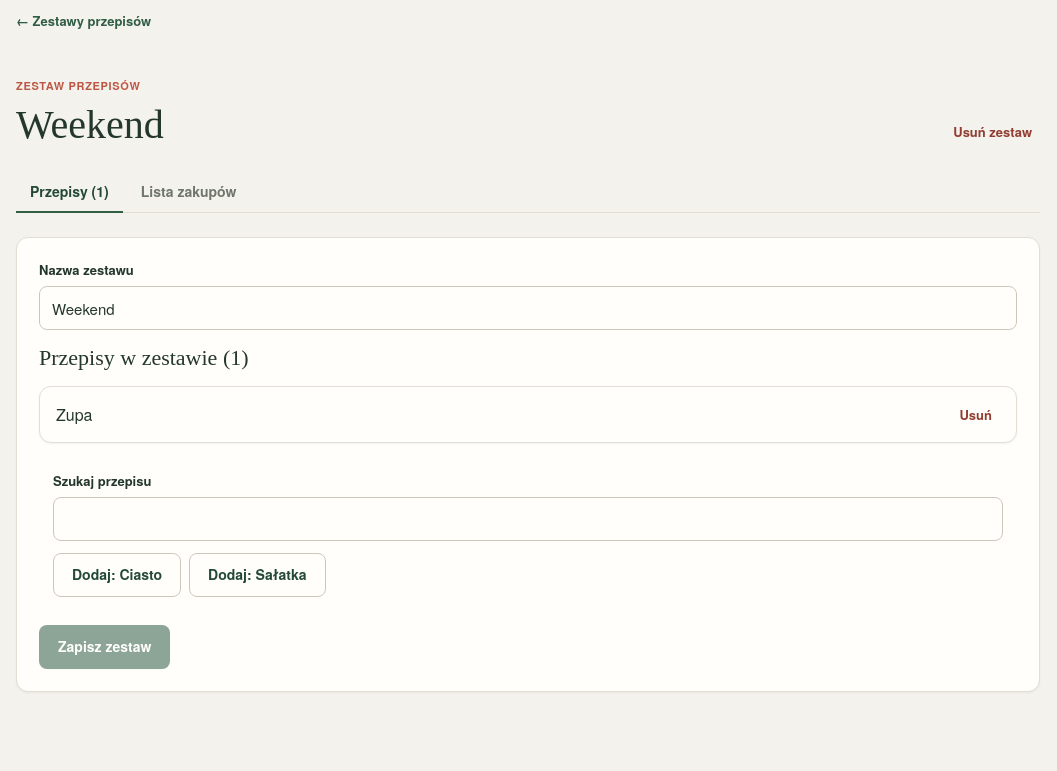
Test: recipe set view › keeps the draft and tells the user when saving fails
Click the button "Dodaj: Ciasto" at (117, 575), box [53,553,181,597]
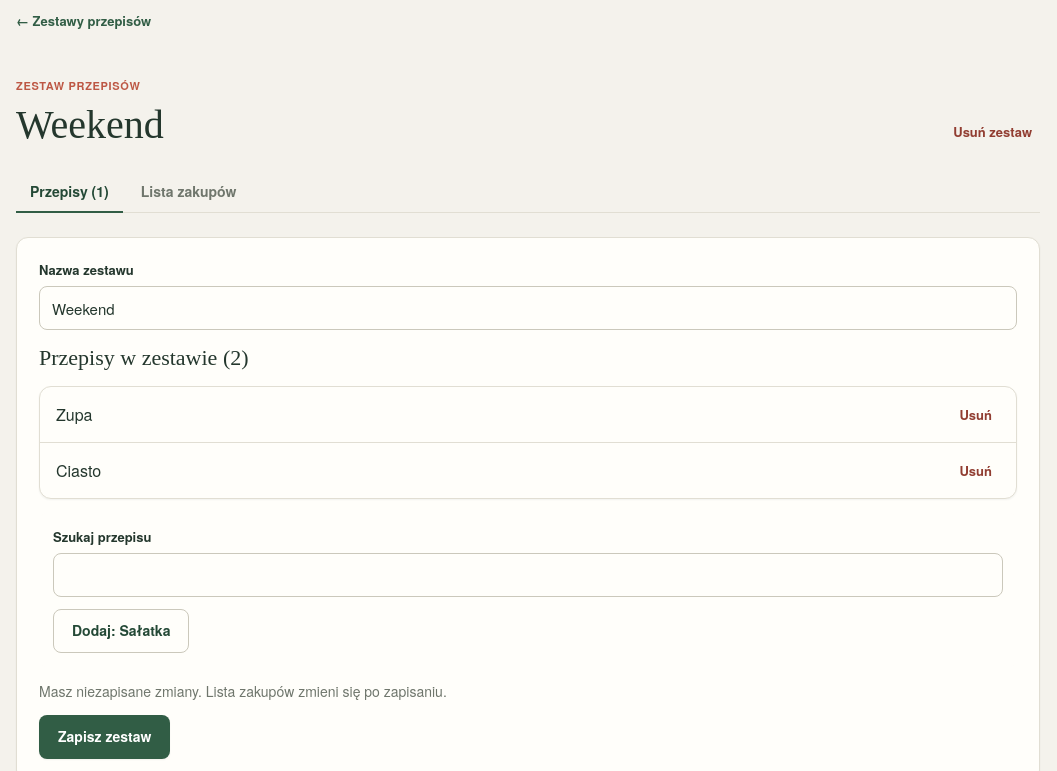
Click the button "Zapisz zestaw" at (105, 737), box [39,715,170,759]
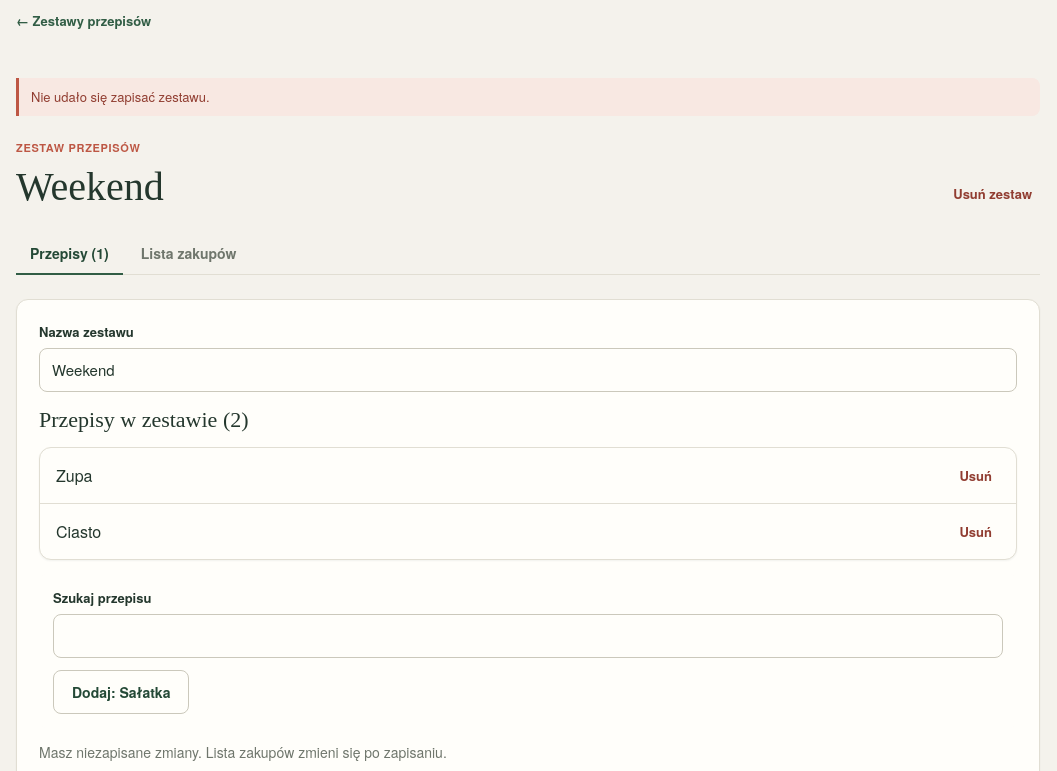
Expected: the heading "Weekend" is shown, [16,165,164,209]
Result: the button named "Usuń z zestawu: Ciasto" is shown at [952,516,1000,547]
Result: the message "Nie udało się zapisać zestawu." is shown at [16,78,1040,116]
